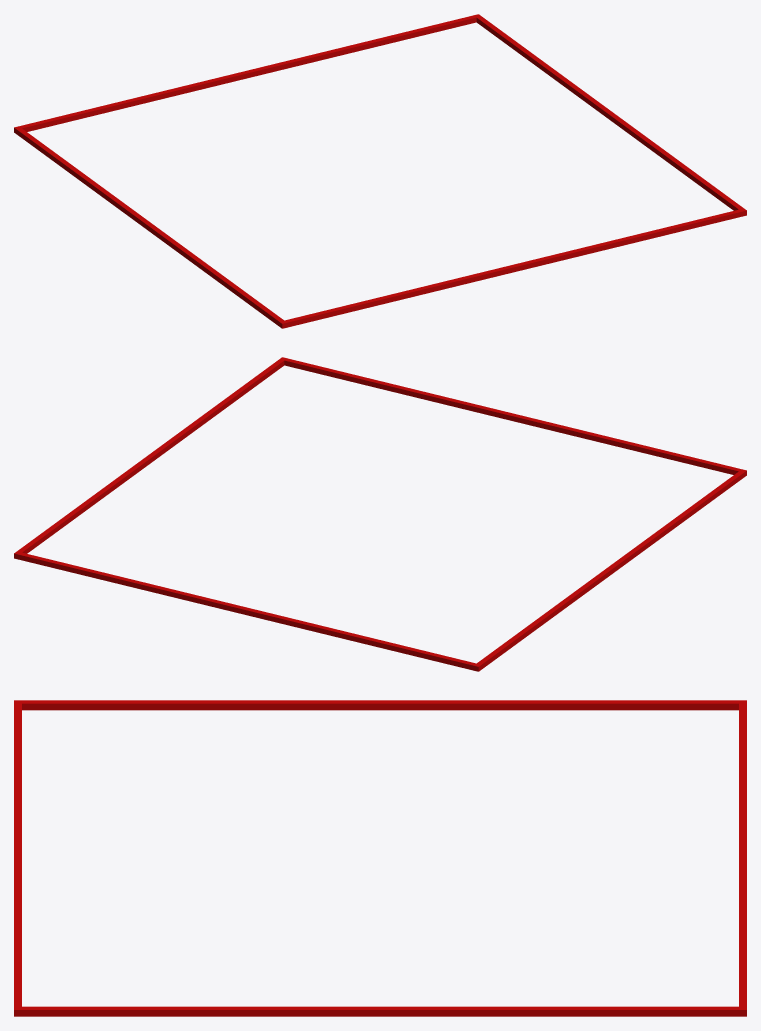
The model's file is ClipPlane2.obj.
The picture shows the model from 3 angles, top to bottom: view 1: azimuth 30°, elevation 25°; view 2: azimuth 150°, elevation 25°; view 3: azimuth 270°, elevation 25°; orthographic projection. The views are drawn at different scales.
Visible parts, largest first — view 1: Cylinder_Cylinder.001; view 2: Cylinder_Cylinder.001; view 3: Cylinder_Cylinder.001.
Boxes of the visible parts, x1,y1,x2,y2 form: Cylinder_Cylinder.001: [14, 14, 746, 328]; Cylinder_Cylinder.001: [14, 357, 746, 671]; Cylinder_Cylinder.001: [14, 700, 746, 1016].
Bounding box in the file's own units: 14.7 × 0.15 × 14.7.
